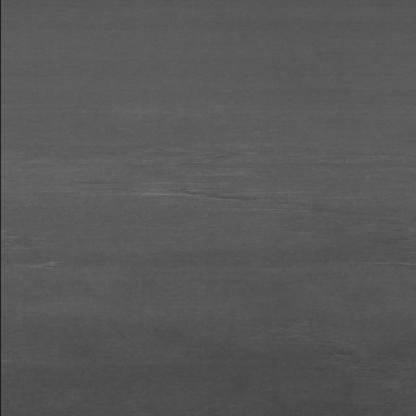silk_spot: (88, 117, 281, 237)
